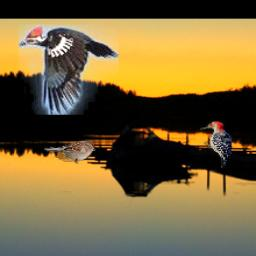Sparrow: (44, 140, 95, 164)
Woodpecker: (19, 25, 119, 115), (201, 121, 233, 168)
